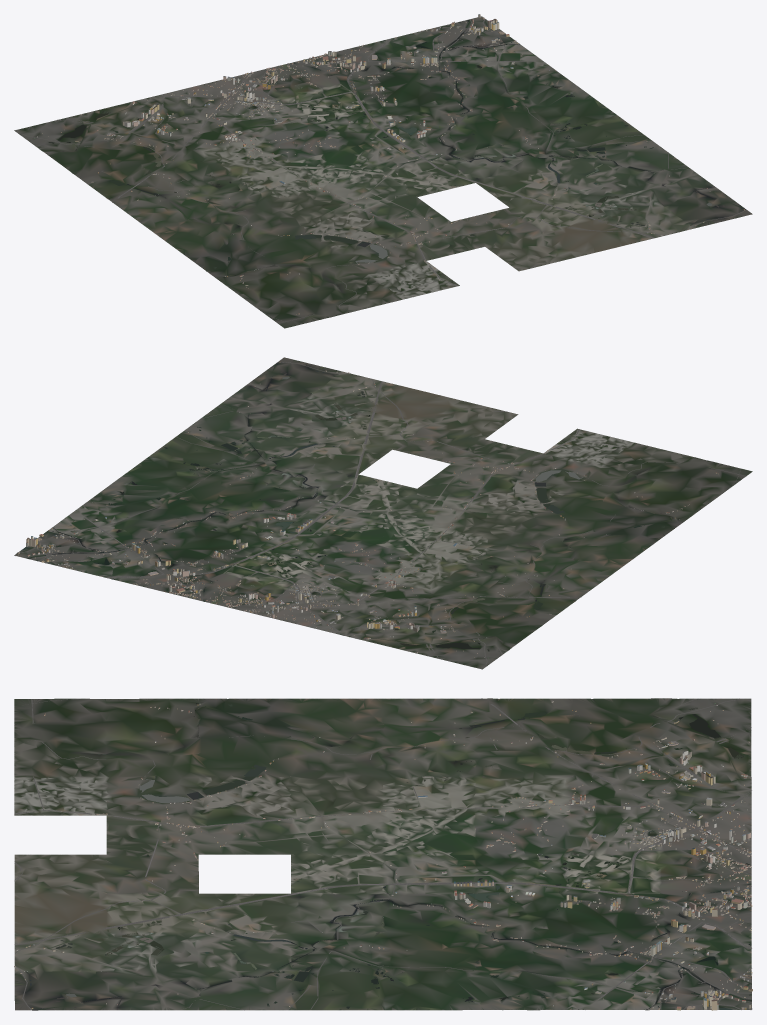
3 views of the same model, one above another, from view 1: azimuth 30°, elevation 25°; view 2: azimuth 150°, elevation 25°; view 3: azimuth 270°, elevation 25° (orthographic). The views are drawn at different scales.
Visible parts, largest first — view 1: ground, buildings, roads, water; view 2: ground, buildings, roads, water; view 3: ground, buildings, roads, water.
Part boxes in pixels (x1=…): ground: x1=14, y1=17, x2=752, y2=328; buildings: x1=37, y1=14, x2=744, y2=314; roads: x1=22, y1=16, x2=746, y2=323; water: x1=34, y1=20, x2=742, y2=287; ground: x1=15, y1=357, x2=752, y2=669; buildings: x1=16, y1=362, x2=718, y2=657; roads: x1=14, y1=361, x2=746, y2=665; water: x1=21, y1=363, x2=679, y2=658; ground: x1=14, y1=698, x2=751, y2=1010; buildings: x1=14, y1=700, x2=752, y2=1010; roads: x1=14, y1=698, x2=752, y2=1010; water: x1=29, y1=699, x2=751, y2=1010.
Bounding box in the file's own units: 11235 × 166 × 11244.
